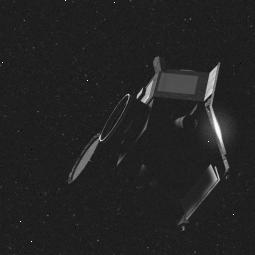cheops: (60, 63, 238, 219)
